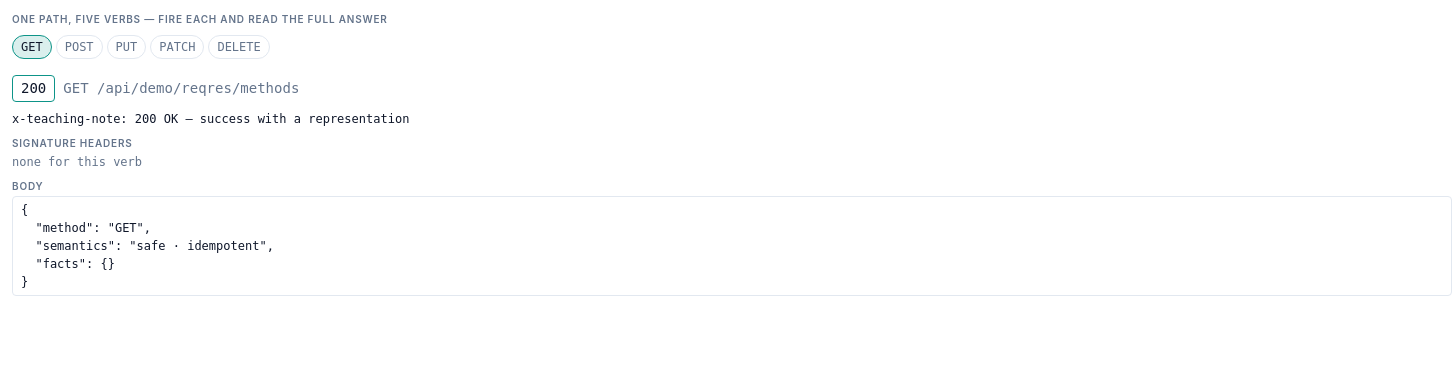
Test: MethodsDemo › POST renders 201 with the Location header naming the created resource
The image size is (1452, 367).
Expected: the element with test id "reqres-response" is shown, [12,75,1451,296]
Click the button with test id "reqres-verb-post".
click(79, 47)  # box [56,35,103,59]
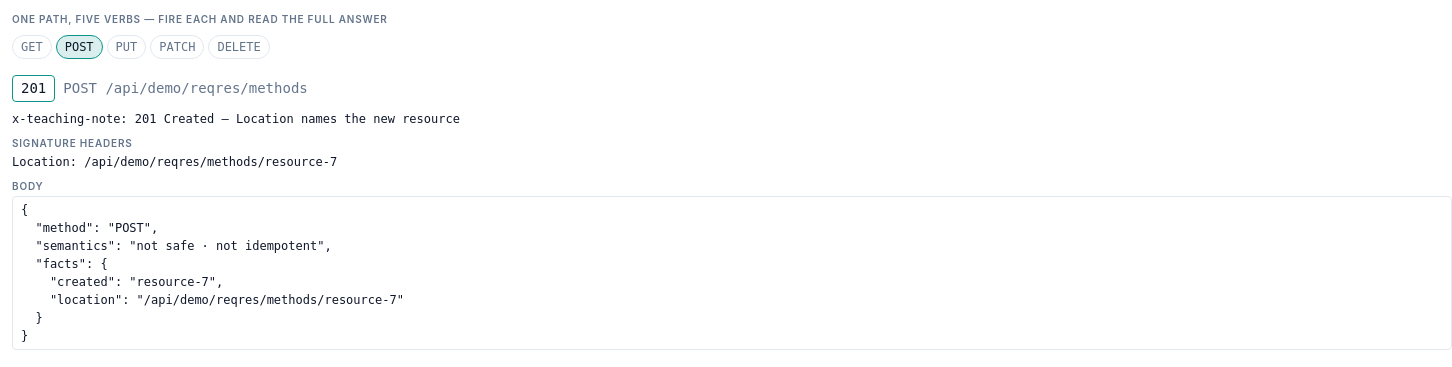
Expected: the text with test id "reqres-status" reads "201", [21,80,46,96]
Expected: the text with test id "reqres-location" shows "/api/demo/reqres/methods/resource-7", [84,155,337,169]
Expected: the text with test id "reqres-note" shows "201 Created", [135,112,460,126]
